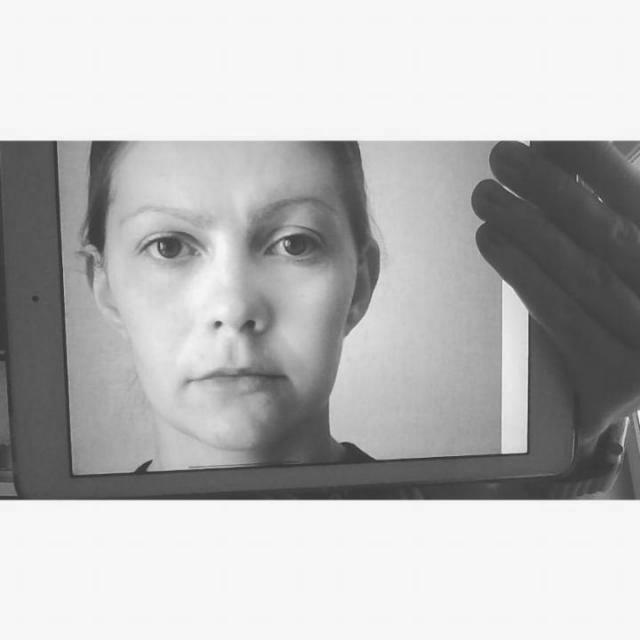fake: (0, 140, 580, 499)
